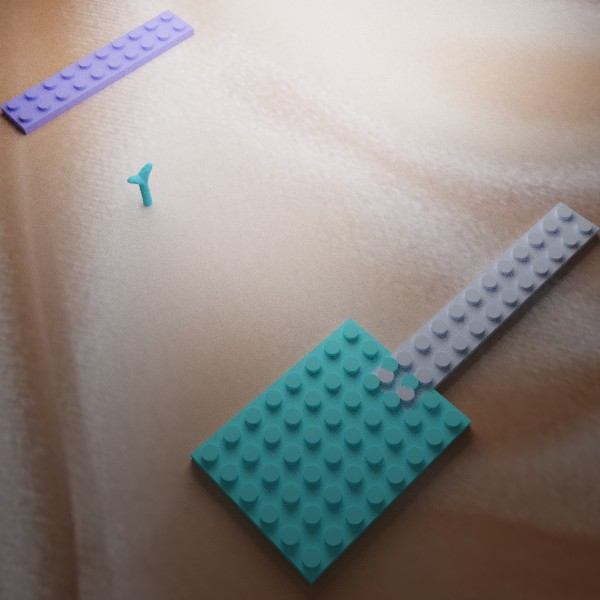lego: (190, 317, 471, 585), (365, 201, 600, 417), (0, 9, 194, 135), (126, 162, 153, 206)
